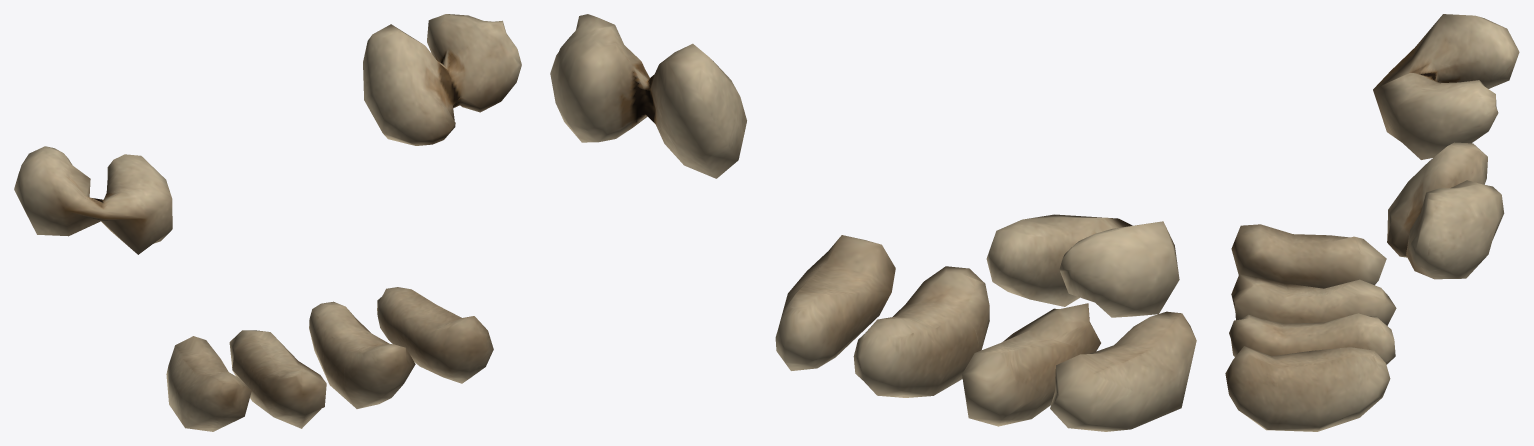
Rendered from Proximal Sesamoid.glb.
3 views of the same model, side by side, from view 1: azimuth 30°, elevation 25°; view 2: azimuth 150°, elevation 25°; view 3: azimuth 270°, elevation 25° (orthographic). The views are drawn at different scales.
Parts seen in each view (by area): view 1: polySurface53, polySurface58, polySurface55, polySurface54, polySurface56, polySurface57; view 2: polySurface53, polySurface58, polySurface55, polySurface57, polySurface54, polySurface56; view 3: polySurface58, polySurface53, polySurface54, polySurface57, polySurface56, polySurface55.
Boxes of the visible parts, x1=… form: polySurface53: x1=363, y1=14, x2=521, y2=145; polySurface58: x1=14, y1=146, x2=172, y2=254; polySurface55: x1=309, y1=301, x2=415, y2=408; polySurface54: x1=377, y1=287, x2=493, y2=383; polySurface56: x1=229, y1=330, x2=326, y2=428; polySurface57: x1=166, y1=336, x2=251, y2=431; polySurface53: x1=550, y1=14, x2=746, y2=178; polySurface58: x1=986, y1=214, x2=1179, y2=317; polySurface55: x1=853, y1=266, x2=989, y2=397; polySurface57: x1=1050, y1=311, x2=1196, y2=431; polySurface54: x1=775, y1=235, x2=895, y2=370; polySurface56: x1=962, y1=303, x2=1100, y2=426; polySurface58: x1=1373, y1=14, x2=1519, y2=159; polySurface53: x1=1387, y1=142, x2=1504, y2=279; polySurface54: x1=1225, y1=346, x2=1390, y2=431; polySurface57: x1=1231, y1=224, x2=1386, y2=288; polySurface56: x1=1231, y1=274, x2=1396, y2=325; polySurface55: x1=1229, y1=313, x2=1395, y2=364.
Bounding box in the file's own units: 34.46 × 19.69 × 17.13.
1 material, 1 textured.
